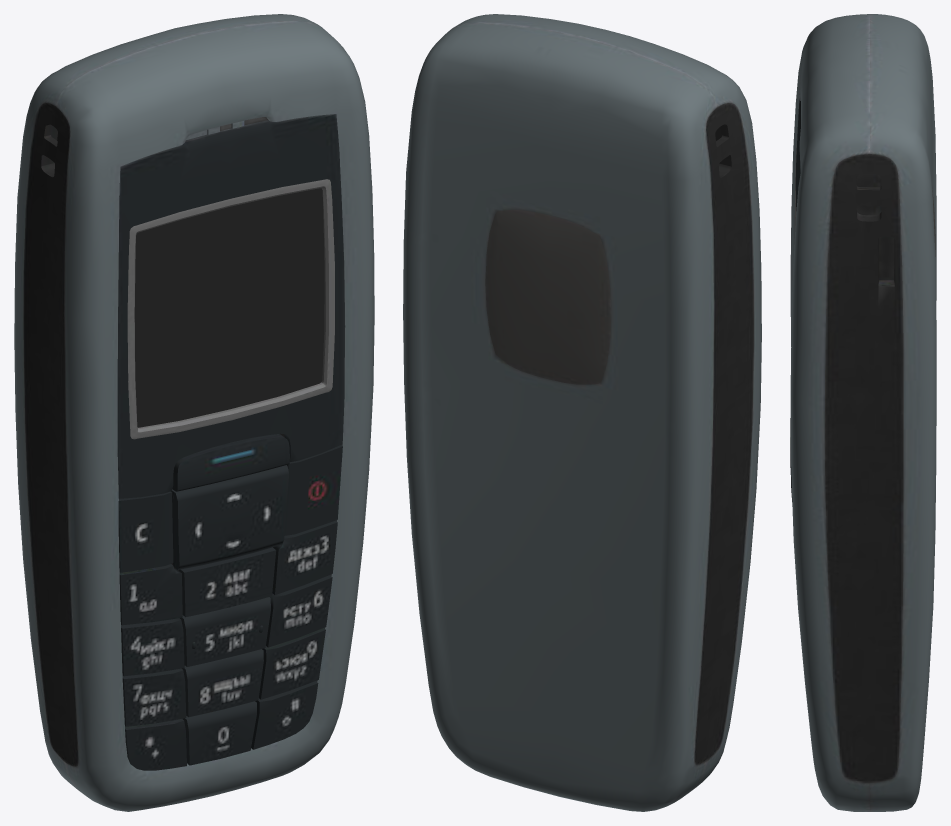
3 views of the same model, side by side, from view 1: azimuth 30°, elevation 25°; view 2: azimuth 150°, elevation 25°; view 3: azimuth 270°, elevation 25° (orthographic). The views are drawn at different scales.
Visible parts, largest first — view 1: base_low, buttons_low, glassFront_low, frontPanel_low, outlineGlass_low; view 2: base_low; view 3: base_low, frontPanel_low.
Boxes of the visible parts, x1,y1,x2,y2 form: base_low: [14, 14, 374, 811]; buttons_low: [118, 434, 342, 770]; glassFront_low: [134, 188, 324, 427]; frontPanel_low: [117, 114, 344, 498]; outlineGlass_low: [127, 179, 334, 439]; base_low: [403, 14, 761, 811]; base_low: [790, 14, 936, 811]; frontPanel_low: [795, 94, 800, 210].
Size of the model in its own units: 0.0587 by 0.1388 by 0.0255.
1 material, 1 textured.
